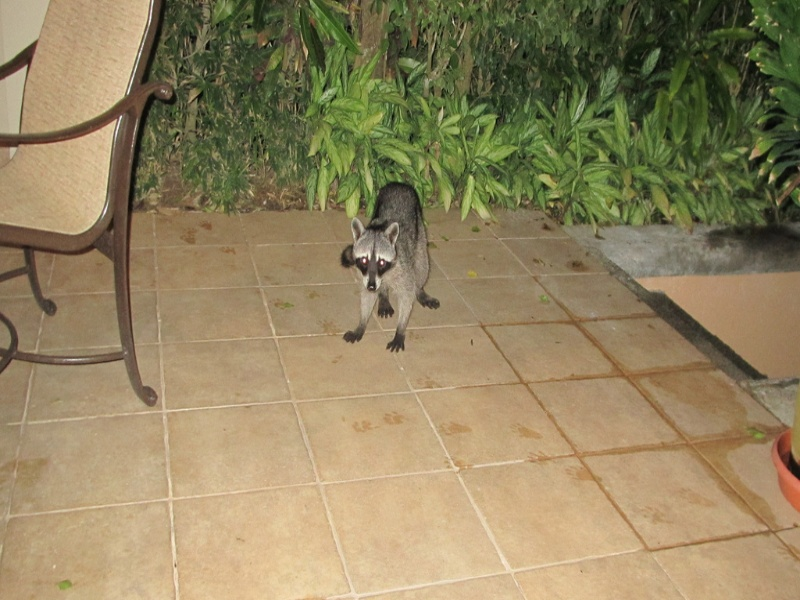raccoon: (336, 177, 443, 355)
